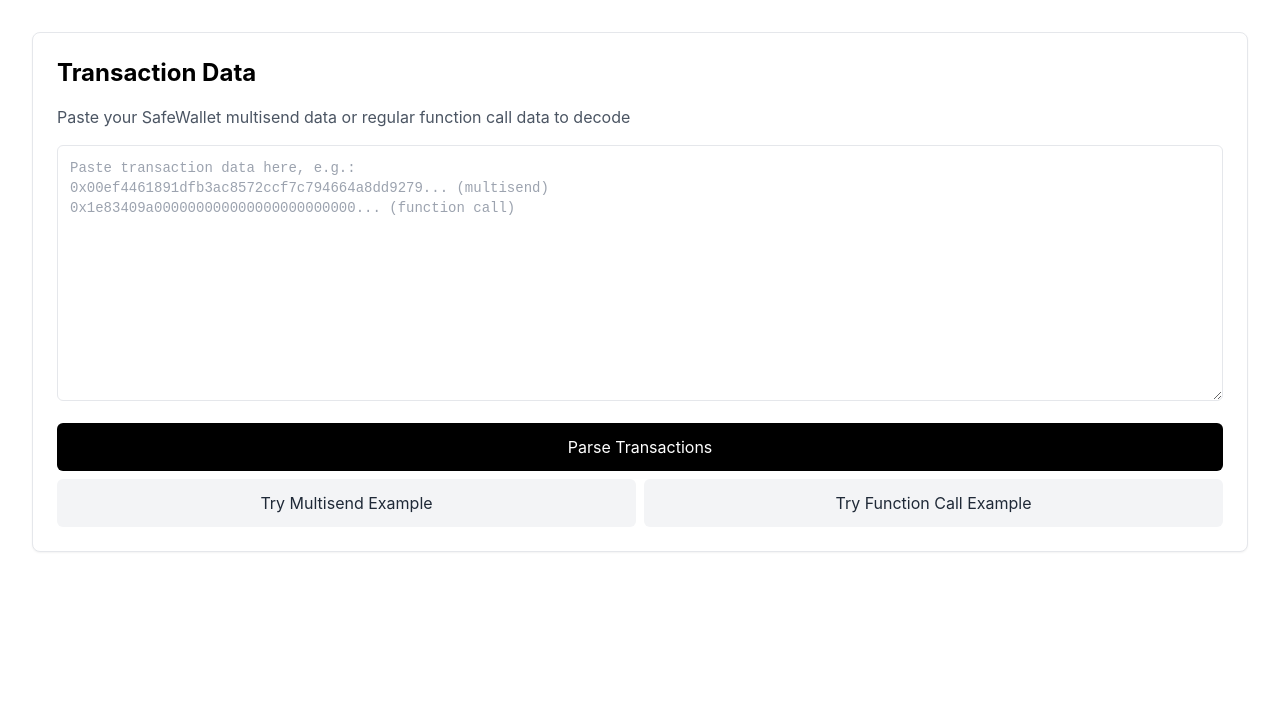
Test: MultisendForm › shows error message for invalid hex format
This screenshot has width=1280, height=720.
Replace the text in the text box with placeholder "Paste transaction data here" with "not a hex string" at point(640, 273), box [57, 145, 1223, 401]
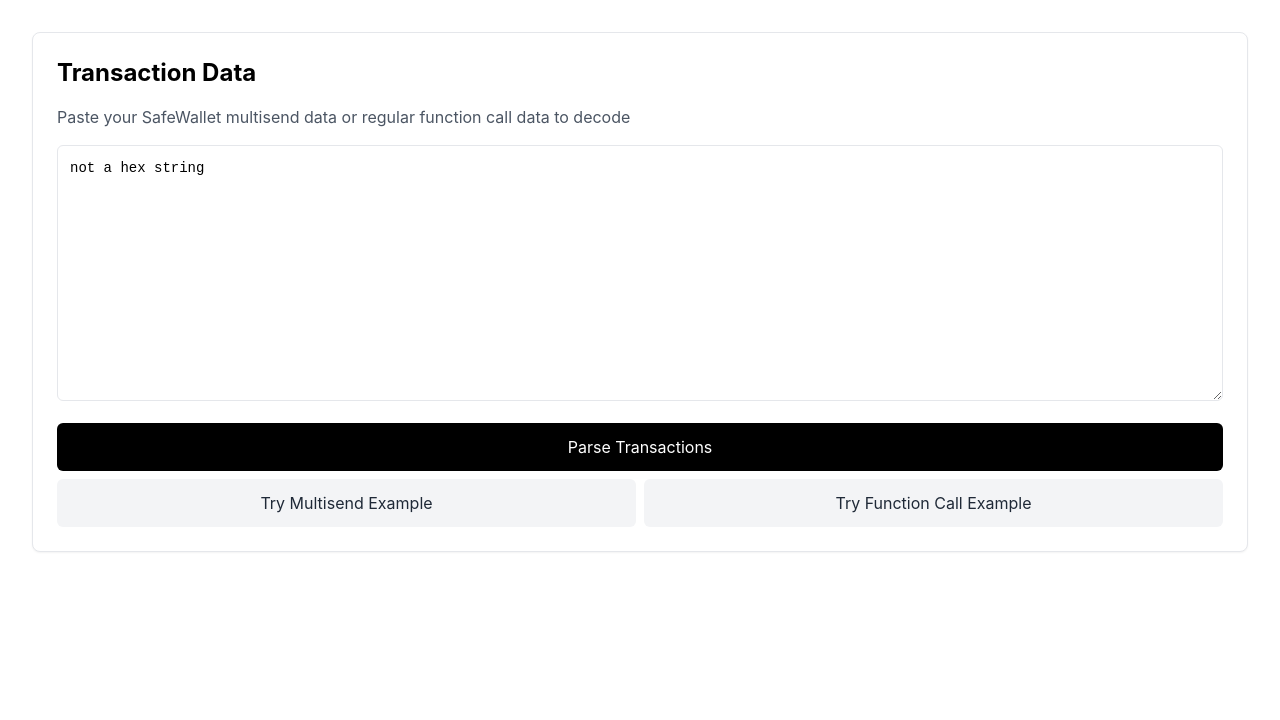
Click the button "Parse Transactions" at point(640, 447), box [57, 423, 1223, 471]
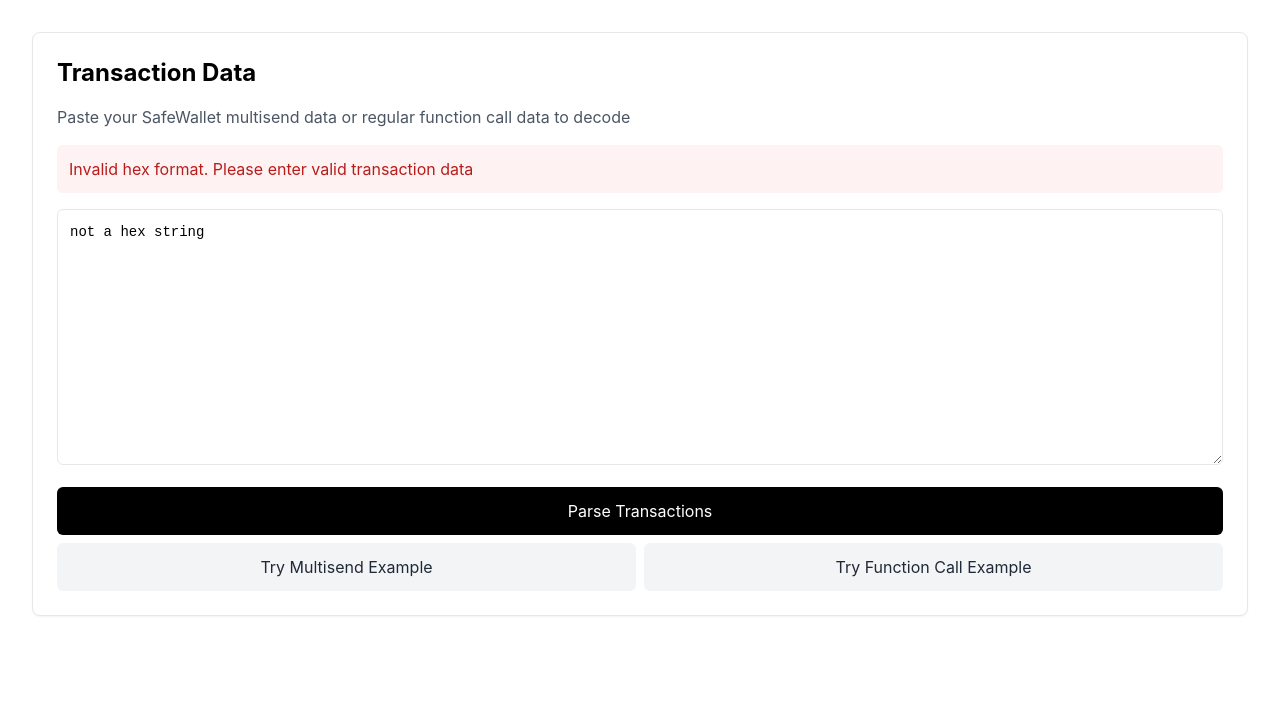
Expected: the text "Invalid hex format. Please enter valid transaction data" is shown, [57, 145, 1223, 193]
